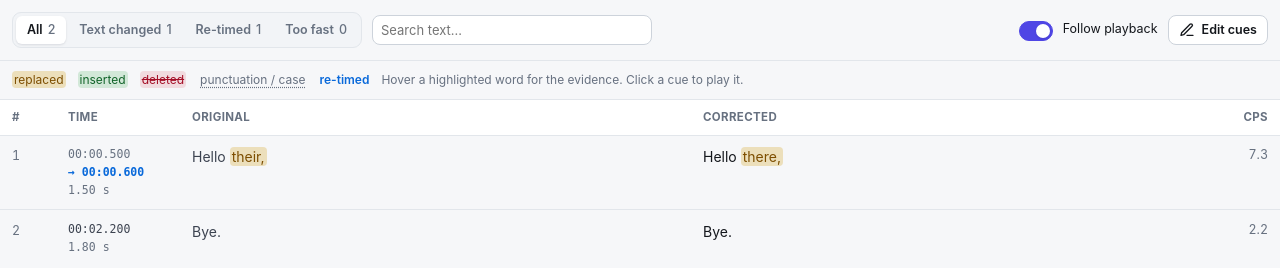
Test: DiffTable › renders highlighted tokens and filters
Expected: the text with class "sub" reads "there,", x1=743 y1=148 x2=781 y2=165
Click the button "Re-timed1" at x=228, y=30, box x1=185 y1=16 x2=272 y2=44
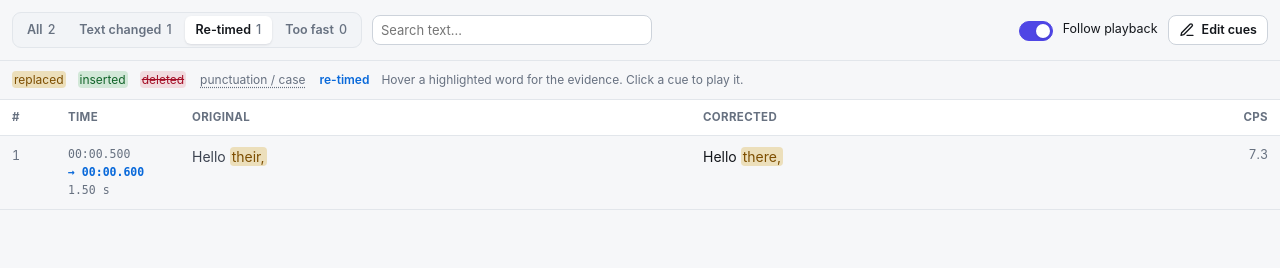
Type "zzz" into the search field named "Search cues" at x=512, y=30, box x1=372 y1=15 x2=652 y2=45
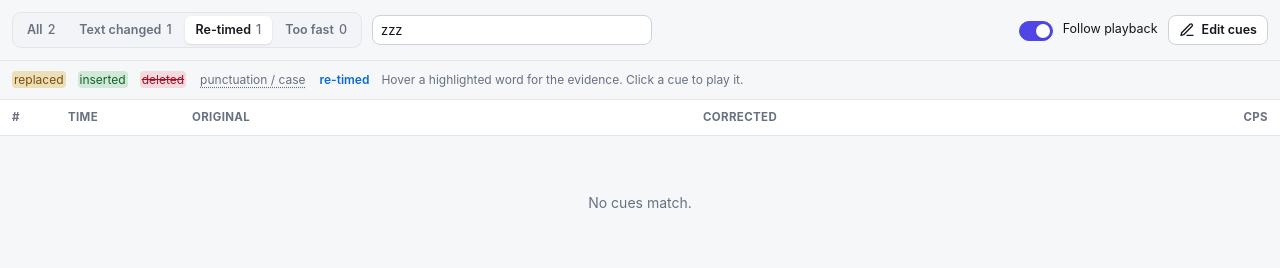
Result: the text "No cues match." is shown at x1=588 y1=194 x2=692 y2=211
